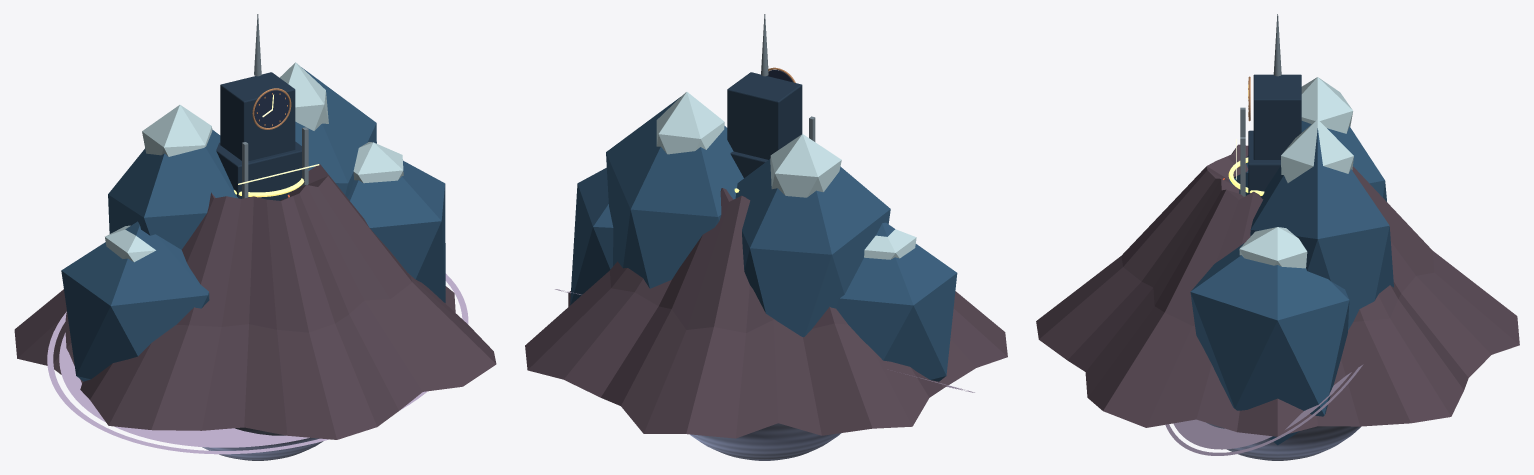
Rendered from arcade-worlds-CdrklPm5.glb.
3 renders of one model, left to right at view 1: azimuth 30°, elevation 25°; view 2: azimuth 150°, elevation 25°; view 3: azimuth 270°, elevation 25°, orthographic.
Visible parts, largest first — view 1: Ember_Volcano_Mesh, Ice_Mountain_Mesh, City_Clocktower_Mesh, Orbit_Planet_Mesh; view 2: Ice_Mountain_Mesh, Ember_Volcano_Mesh, City_Clocktower_Mesh, Orbit_Planet_Mesh; view 3: Ember_Volcano_Mesh, Ice_Mountain_Mesh, City_Clocktower_Mesh, Orbit_Planet_Mesh.
Boxes of the visible parts, <box> form: Ember_Volcano_Mesh: <box>14,164,496,439</box>; Ice_Mountain_Mesh: <box>61,62,445,381</box>; City_Clocktower_Mesh: <box>216,14,319,200</box>; Orbit_Planet_Mesh: <box>47,273,468,460</box>; Ice_Mountain_Mesh: <box>570,92,957,381</box>; Ember_Volcano_Mesh: <box>525,188,1007,438</box>; City_Clocktower_Mesh: <box>727,14,815,177</box>; Orbit_Planet_Mesh: <box>555,289,974,460</box>; Ember_Volcano_Mesh: <box>1036,144,1519,436</box>; Ice_Mountain_Mesh: <box>1190,77,1393,445</box>; City_Clocktower_Mesh: <box>1236,14,1301,196</box>; Orbit_Planet_Mesh: <box>1165,364,1363,460</box>.
Size of the model in its own units: 35 by 36 by 36.23.
24 materials, 1 textured.
